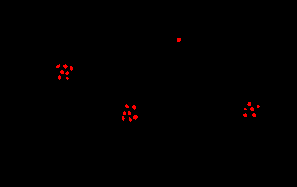Target: (63, 64, 68, 69), (133, 115, 138, 120), (132, 105, 136, 110), (177, 38, 181, 42), (56, 64, 60, 68), (60, 70, 64, 74), (65, 71, 69, 75), (247, 102, 251, 106), (125, 104, 129, 108), (250, 107, 254, 111), (243, 113, 247, 117), (252, 113, 256, 117), (70, 66, 73, 71), (58, 75, 61, 80), (122, 116, 125, 121), (129, 117, 132, 122), (123, 111, 126, 115), (128, 111, 131, 115), (66, 77, 69, 80), (257, 105, 260, 108), (244, 108, 247, 110)
